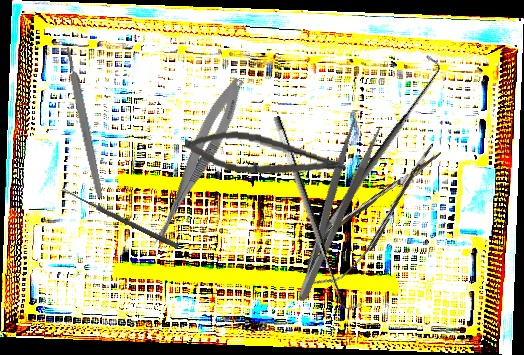Dressing Forceps: (278, 115, 385, 305)
Hook Surgical: (305, 53, 451, 238), (269, 110, 364, 317)
Micro Scissor: (289, 136, 456, 300), (145, 73, 250, 256), (182, 126, 349, 183)
Scalpel Handle: (63, 46, 105, 199)
Surgical Spoon: (60, 186, 180, 250)
